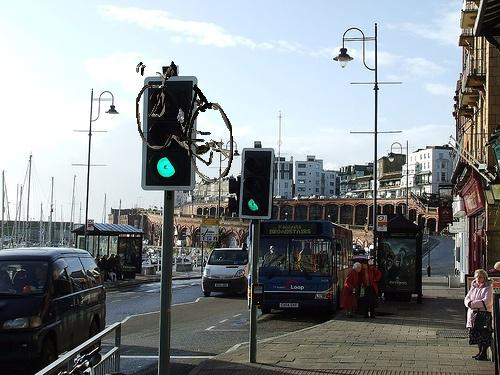tampered: (137, 62, 233, 183)
